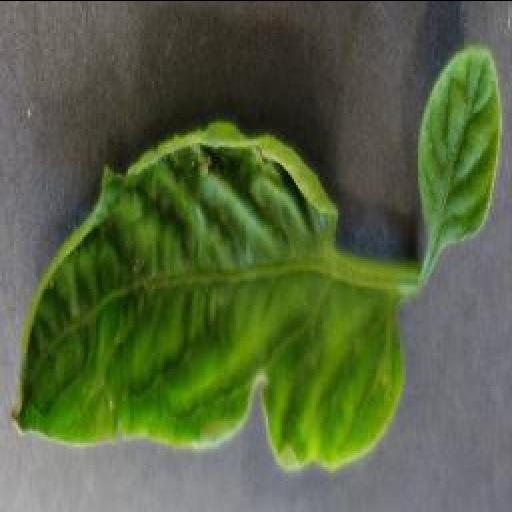disease_tomato: (9, 118, 407, 474), (413, 45, 507, 246)
